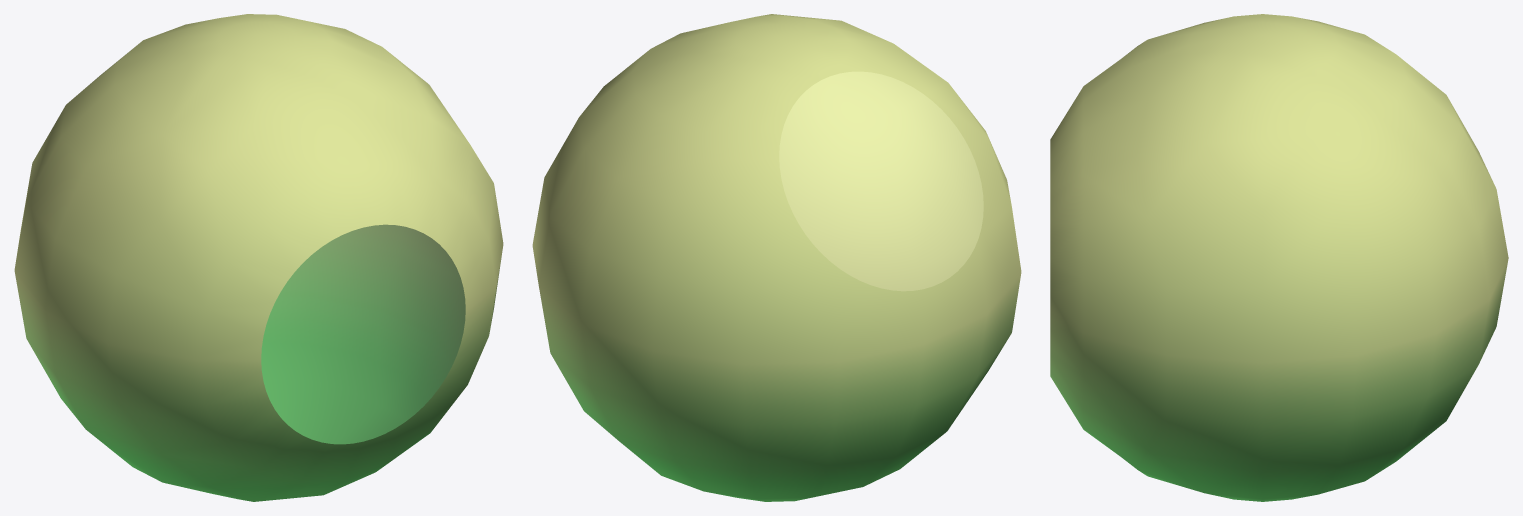
File: InsidePortal_SkySphere.fbx
The picture shows the model from 3 angles, left to right: view 1: azimuth 30°, elevation 25°; view 2: azimuth 150°, elevation 25°; view 3: azimuth 270°, elevation 25°; orthographic projection.
Parts seen in each view (by area): view 1: InsidePortal_SkySphere; view 2: InsidePortal_SkySphere; view 3: InsidePortal_SkySphere.
Boxes of the visible parts, x1,y1,x2,y2 form: InsidePortal_SkySphere: [14, 14, 503, 501]; InsidePortal_SkySphere: [532, 14, 1021, 501]; InsidePortal_SkySphere: [1050, 14, 1508, 501].
Bounding box in the file's own units: 11.25 × 11.25 × 10.49.
Materials: 1 (1 with a texture image).
